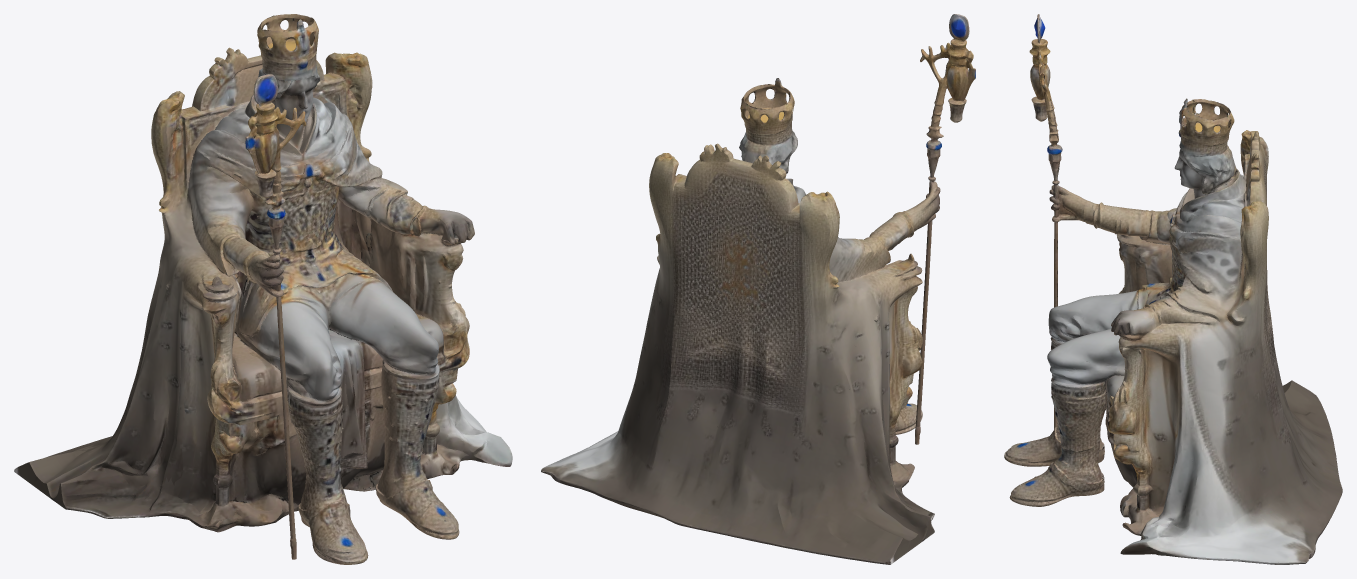
Rendered from king.glb.
The picture shows the model from 3 angles, left to right: view 1: azimuth 30°, elevation 25°; view 2: azimuth 150°, elevation 25°; view 3: azimuth 270°, elevation 25°; orthographic projection. The views are drawn at different scales.
Parts seen in each view (by area): view 1: model; view 2: model; view 3: model.
Boxes of the visible parts, box(x1,y1,x2,y2) form: model: box(14, 14, 512, 564); model: box(541, 14, 975, 564); model: box(1004, 14, 1342, 564).
Size of the model in its own units: 1.64 by 1.9 by 1.39.
1 material, 1 textured.
